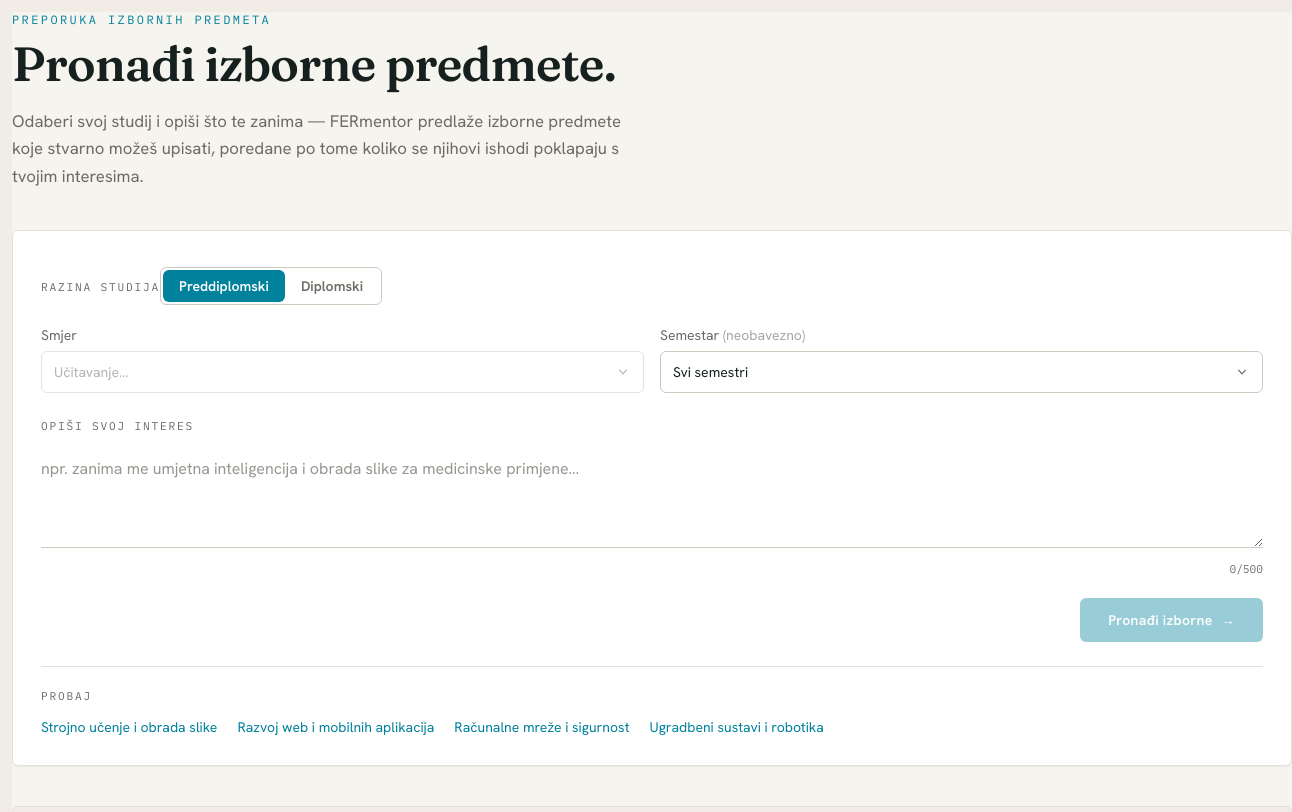
it: ElectivesPage › submit is disabled until an interest is typed
Expected: the button "Pronađi izborne →" is disabled, [1080,598,1263,642]
Type "strojno učenje" into the text box labelled "Opiši svoj interes". click: (652, 499)
box: [41,449,1263,548]
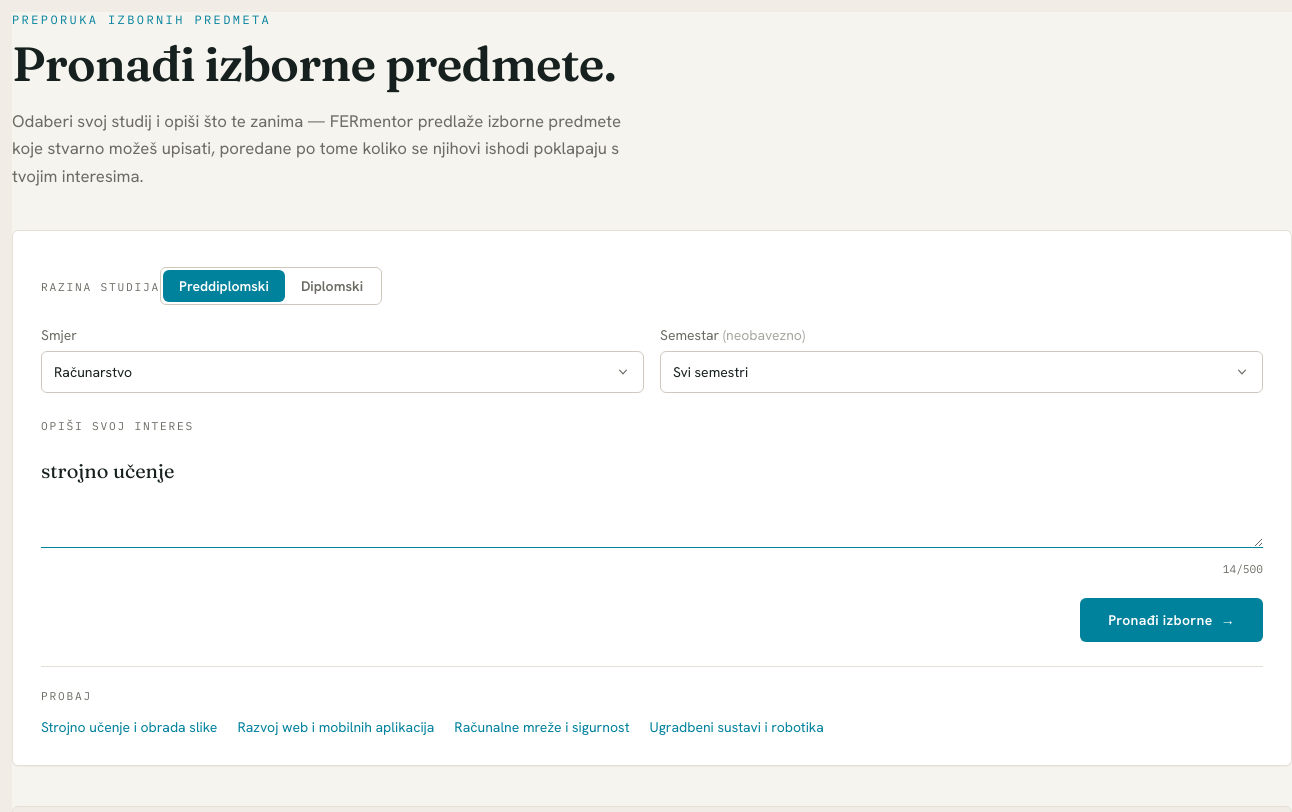
Expected: the button "Pronađi izborne →" is enabled, [1080,598,1263,642]
